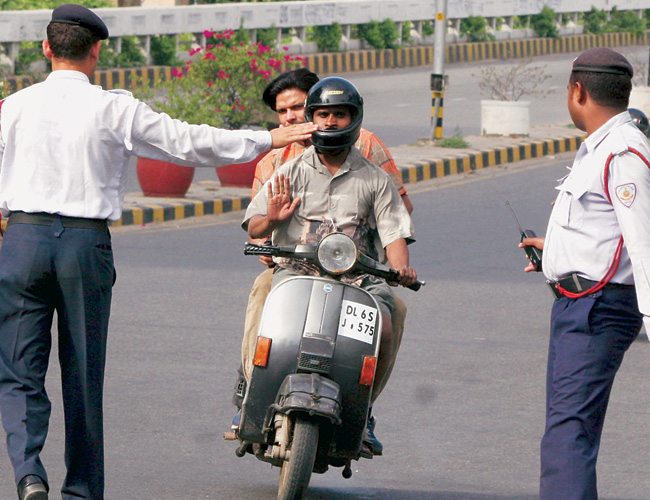number_plate: (337, 295, 380, 347)
